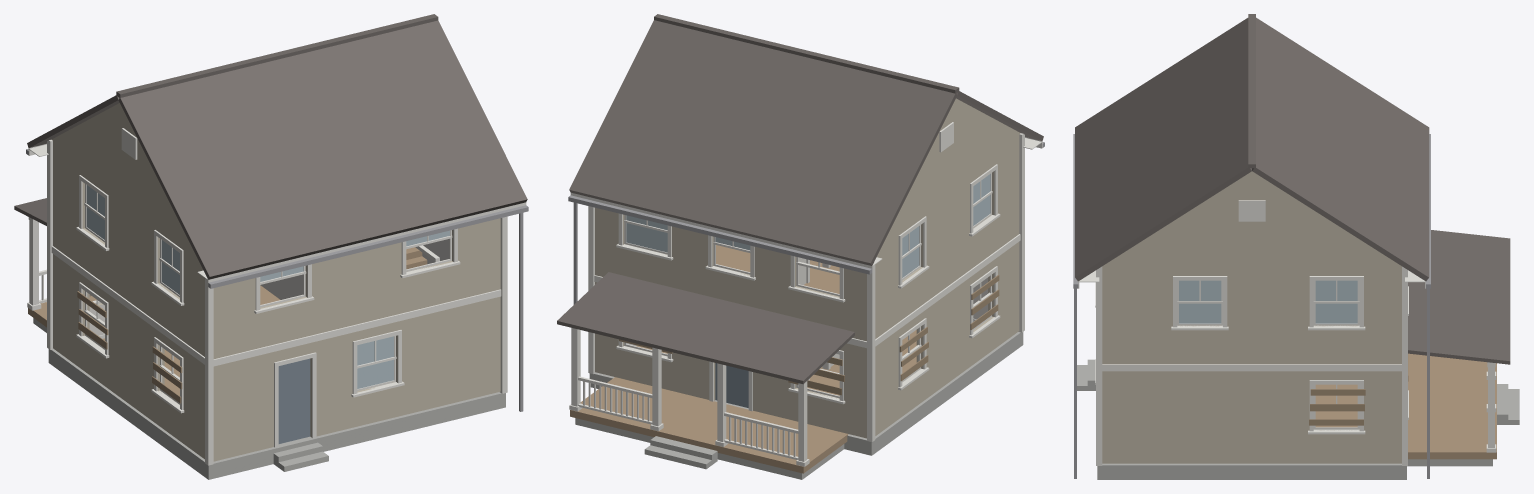
The model's file is SM_House_D.fbx.
3 views of the same model, side by side, from view 1: azimuth 30°, elevation 25°; view 2: azimuth 150°, elevation 25°; view 3: azimuth 270°, elevation 25° (orthographic). The views are drawn at different scales.
Visible parts, largest first — view 1: SM_House_D, SM_House_D_Glass; view 2: SM_House_D, SM_House_D_Glass; view 3: SM_House_D, SM_House_D_Glass.
Part boxes in pixels (x1,y1,x2,y2): SM_House_D: (14,14,528,479); SM_House_D_Glass: (86,185,449,388); SM_House_D: (557,14,1044,479); SM_House_D_Glass: (626,174,990,277); SM_House_D: (1073,14,1519,479); SM_House_D_Glass: (1179,280,1357,323).
Bounding box in the file's own units: 9.3 × 9.25 × 11.68.
